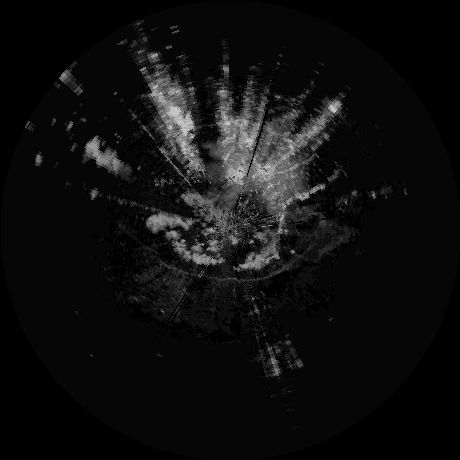frontgust: (157, 251, 310, 283)
